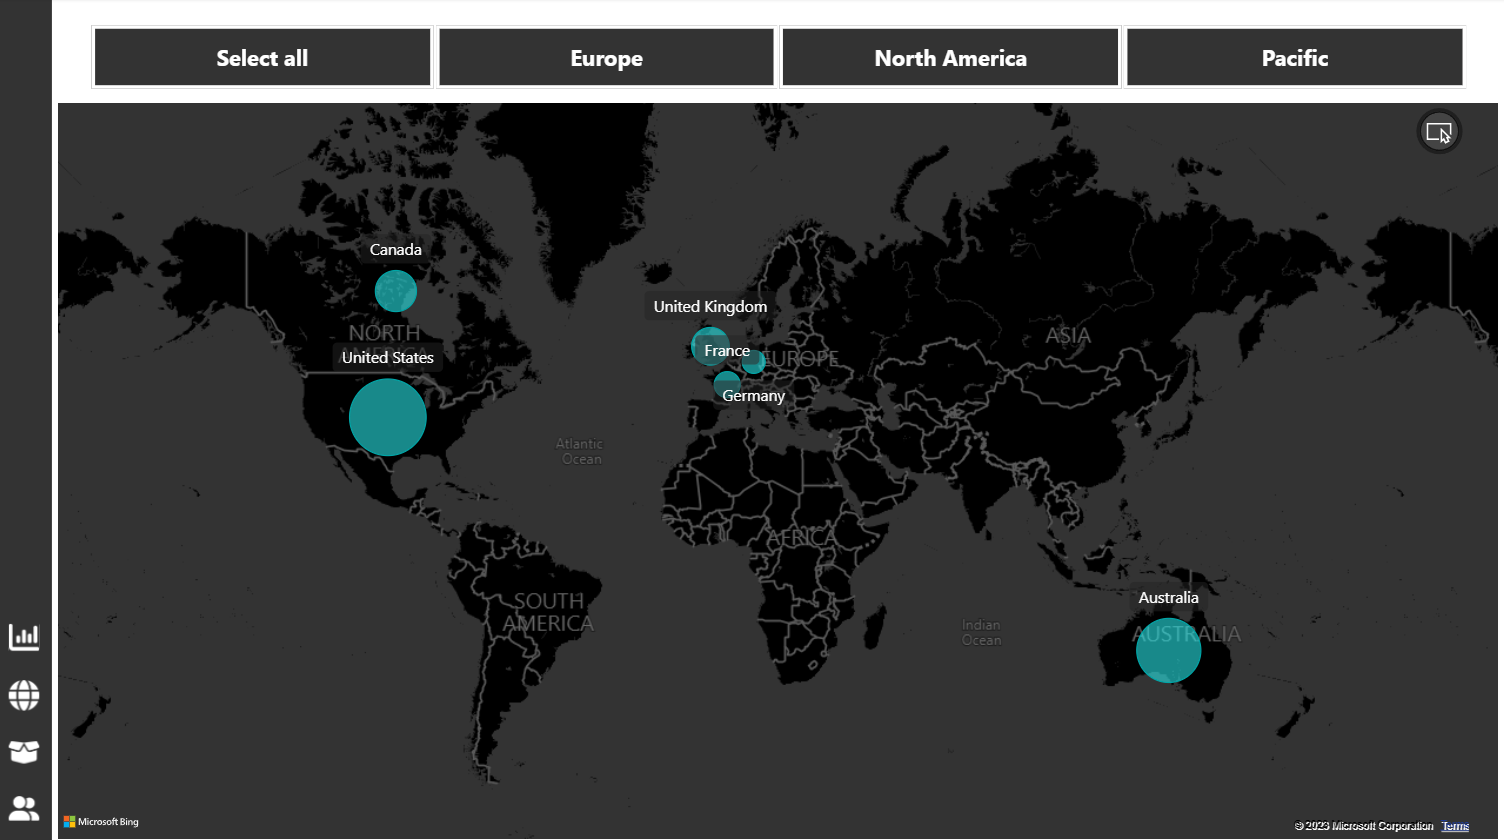

This screenshot's page, from the dashboard's own definition file:
{"tool":"powerbi","page":{"name":"Map","canvas":[1280,720],"ordinal":1},"visuals":[{"type":"shape","box":[0,0,45,720],"z":0},{"type":"actionButton","box":[4.6,524.8,34,37.7],"z":1000,"group":"g1"},{"type":"map","fields":{"Category":["Territory Lookup.Country"],"Size":["Measure Table.Total Orders"]},"box":[44.7,84.6,1235.5,635.7],"z":1000},{"type":"slicer","fields":{"Values":["Territory Lookup.Continent"]},"box":[52.5,16.5,1219,68],"z":2000},{"type":"actionButton","box":[4.6,574.4,34,37.7],"z":2000,"group":"g1"},{"type":"actionButton","box":[4.6,622.2,34,37.7],"z":3000,"group":"g1"},{"type":"group","id":"g1","title":"Navigation Buttons","box":[4.6,524.8,34,182.9],"z":3000},{"type":"actionButton","box":[4.6,670,34,37.7],"z":4000,"group":"g1"}]}

Visuals, with their boxes in screenshot pixels (x1, y1, x2, y2), scaled from the page's 1280x720 canvas onto the 1504x840 screenshot:
shape: l=0, t=0, r=53, b=839
actionButton: l=5, t=612, r=45, b=656
map - Territory Lookup.Country x Measure Table.Total Orders: l=53, t=99, r=1503, b=839
slicer - Territory Lookup.Continent: l=62, t=19, r=1494, b=99
actionButton: l=5, t=670, r=45, b=714
actionButton: l=5, t=726, r=45, b=770
"Navigation Buttons" group: l=5, t=612, r=45, b=826
actionButton: l=5, t=782, r=45, b=826
